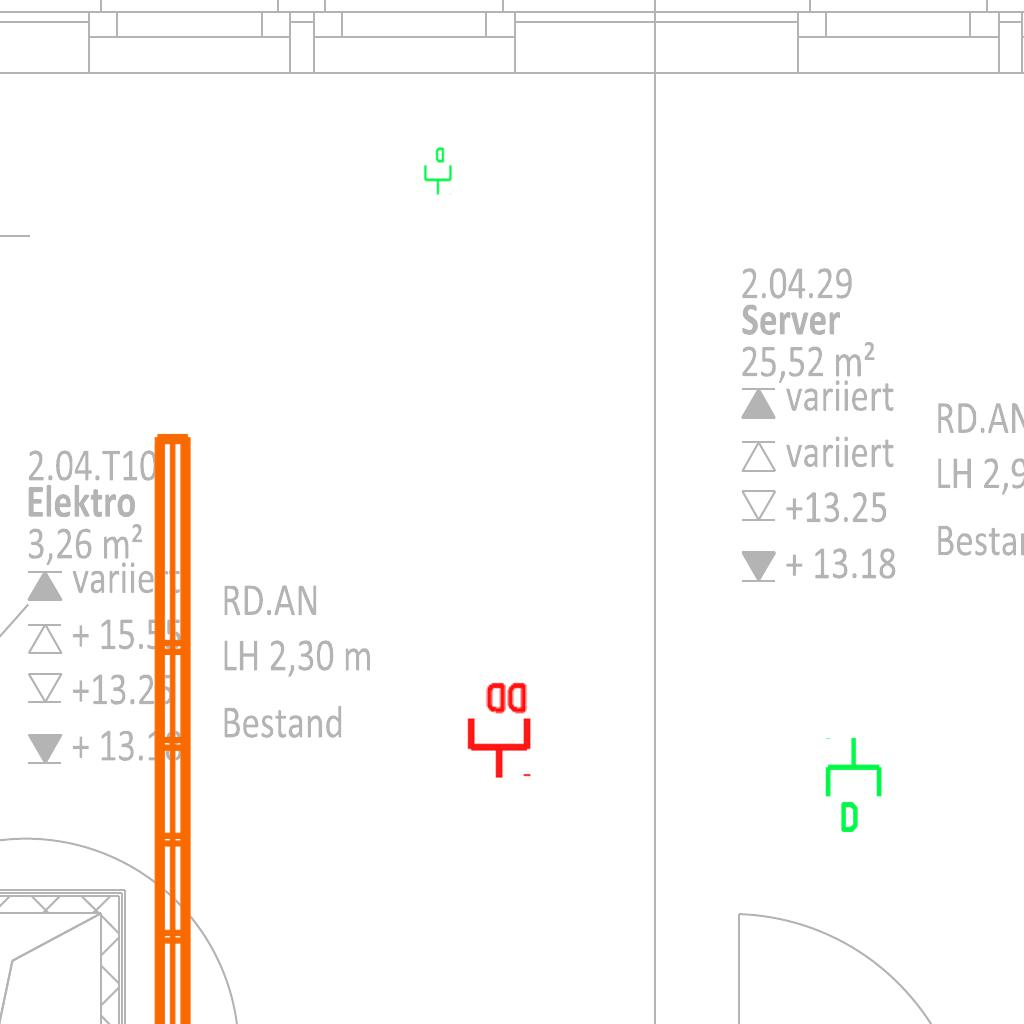Ambulanz_Pendelleuchte_LED: (142, 423, 254, 1024)
Datenanschluss_einfach: (821, 735, 890, 835), (420, 146, 454, 196)
Datenanschluss_zweifach: (463, 678, 532, 781)
